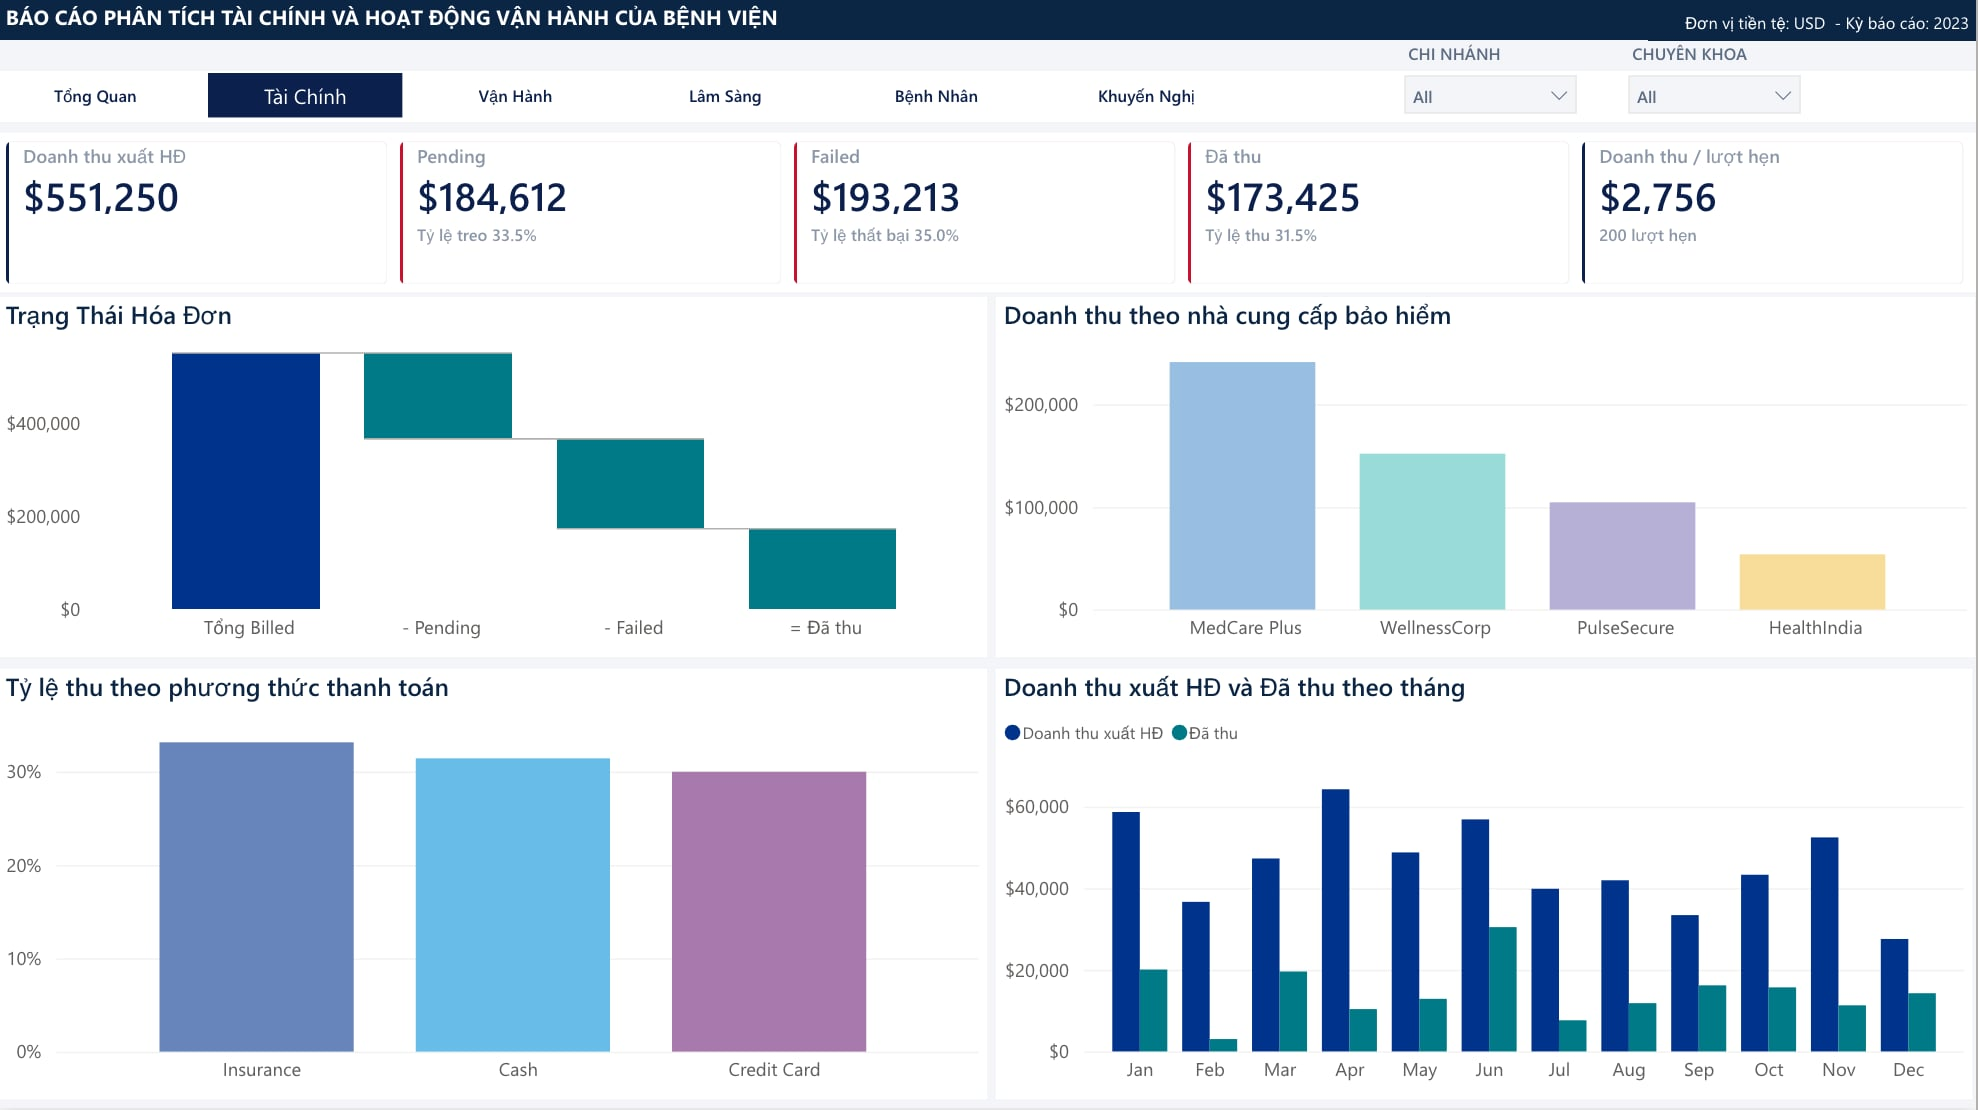

This screenshot's page, from the dashboard's own definition file:
{"tool":"powerbi","page":{"name":"Tài Chính","canvas":[1280,720],"ordinal":1},"visuals":[{"type":"textbox","box":[0,0,1280,29],"z":0},{"type":"textbox","box":[1067.2,2.4,212.8,27],"z":1000},{"type":"textbox","box":[0,49.3,1280,32.9],"z":2000},{"type":"slicer","fields":{"Values":["DIM_DOCTOR.HOSPITAL_BRANCH"]},"box":[904.9,30.3,122,50],"z":3000},{"type":"slicer","fields":{"Values":["DIM_DOCTOR.SPECIALIZATION"]},"box":[1049,30.3,122,50],"z":4000},{"type":"pageNavigator","box":[0,51,810.9,29.1],"z":5000},{"type":"cardVisual","fields":{"Data":["Measure Table.Total Billed","Measure Table.Pending Amount","Measure Table.Failed Amount","Measure Table.Collected","Measure Table.Revenue per Appt"]},"box":[0,89.5,1280,103],"z":6000},{"type":"waterfallChart","title":"Trạng Thái Hóa Đơn","fields":{"Category":["Bridge.Step"],"Y":["Bridge.Bridge Value"]},"box":[0,195.7,640,233.1],"z":7000},{"type":"clusteredColumnChart","title":"Tỷ lệ thu theo phương thức thanh toán","fields":{"Category":["FCT_BILLING.PAYMENT_METHOD"],"Y":["Measure Table.Collection Rate"]},"box":[0,435.9,640,278.4],"z":8000},{"type":"clusteredColumnChart","title":"Doanh thu theo nhà cung cấp bảo hiểm","fields":{"Category":["DIM_PATIENT.INSURANCE_PROVIDER"],"Y":["Measure Table.Total Billed"]},"box":[646.4,195.7,633.6,233.1],"z":9000},{"type":"clusteredColumnChart","title":"Doanh thu xuất HĐ và Đã thu  theo tháng","fields":{"Category":["DIM_DATE.MONTH_NAME"],"Y":["Measure Table.Total Billed","Measure Table.Collected"]},"box":[646.4,435.9,631.6,278.4],"z":10000}]}

Visuals, with their boxes in screenshot pixels (x1, y1, x2, y2), scaled from the page's 1280x720 canvas onto the 1978x1110 screenshot:
textbox: x1=0, y1=0, x2=1977, y2=45
textbox: x1=1649, y1=4, x2=1977, y2=45
textbox: x1=0, y1=76, x2=1977, y2=127
slicer - DIM_DOCTOR.HOSPITAL_BRANCH: x1=1398, y1=47, x2=1587, y2=124
slicer - DIM_DOCTOR.SPECIALIZATION: x1=1621, y1=47, x2=1810, y2=124
pageNavigator: x1=0, y1=79, x2=1253, y2=123
cardVisual - Measure Table.Total Billed x Measure Table.Pending Amount: x1=0, y1=138, x2=1977, y2=297
"Trạng Thái Hóa Đơn" waterfallChart: x1=0, y1=302, x2=989, y2=661
"Tỷ lệ thu theo phương thức thanh toán" clusteredColumnChart: x1=0, y1=672, x2=989, y2=1101
"Doanh thu theo nhà cung cấp bảo hiểm" clusteredColumnChart: x1=999, y1=302, x2=1977, y2=661
"Doanh thu xuất HĐ và Đã thu  theo tháng" clusteredColumnChart: x1=999, y1=672, x2=1975, y2=1101
